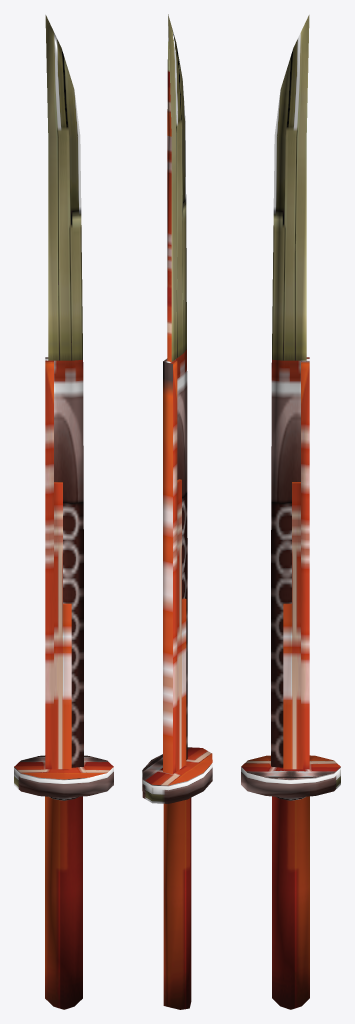
Rendered from bladebrandier17.obj.
The picture shows the model from 3 angles, left to right: view 1: azimuth 90°, elevation 25°; view 2: azimuth 150°, elevation 25°; view 3: azimuth 270°, elevation 25°; orthographic projection.
Visible parts, largest first — view 1: MDL_w21kt17_bod00; view 2: MDL_w21kt17_bod00; view 3: MDL_w21kt17_bod00.
Boxes of the visible parts, x1,y1,x2,y2 form: MDL_w21kt17_bod00: (14, 15, 113, 1009); MDL_w21kt17_bod00: (142, 14, 212, 1009); MDL_w21kt17_bod00: (241, 15, 340, 1009).
Size of the model in its own units: 0.0806 by 1.47 by 0.1341.
